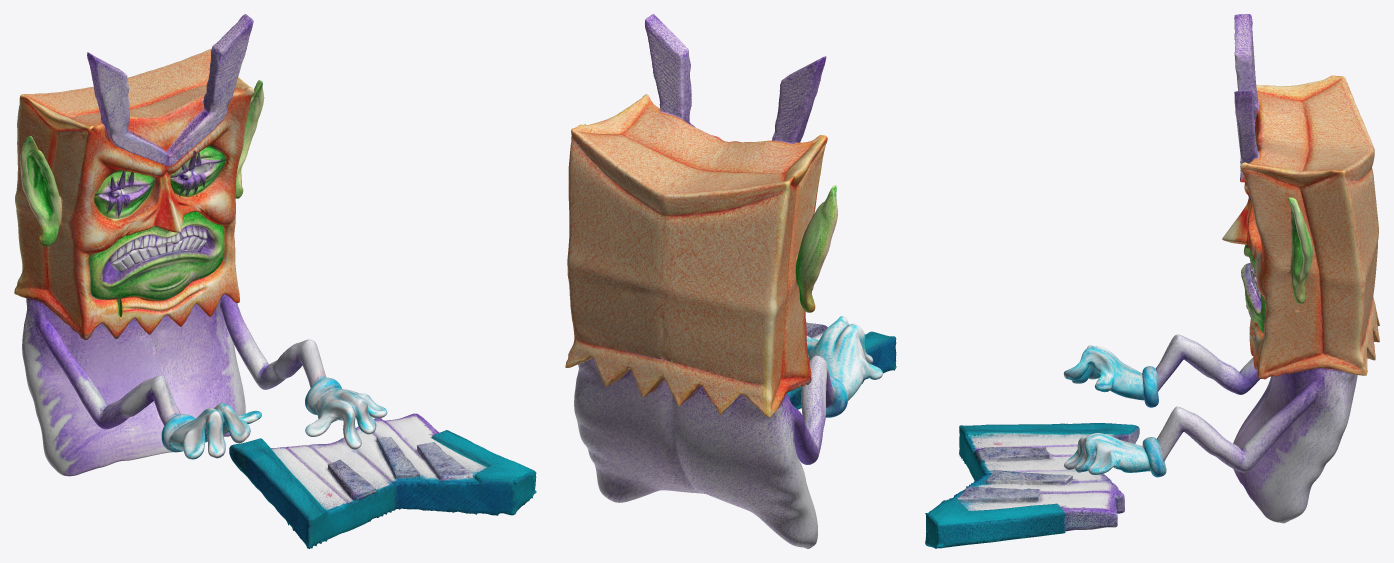
Rendered from villianweb.glb.
3 views of the same model, side by side, from view 1: azimuth 30°, elevation 25°; view 2: azimuth 150°, elevation 25°; view 3: azimuth 270°, elevation 25° (orthographic). The views are drawn at different scales.
Parts seen in each view (by area): view 1: tiki mask 3d model; view 2: tiki mask 3d model; view 3: tiki mask 3d model.
Boxes of the visible parts, box(x1,y1,x2,y2) form: tiki mask 3d model: box(14, 14, 536, 548); tiki mask 3d model: box(565, 14, 896, 548); tiki mask 3d model: box(925, 14, 1379, 548).
Bounding box in the file's own units: 0.7911 × 0.9799 × 0.9412.
1 material, 1 textured.
